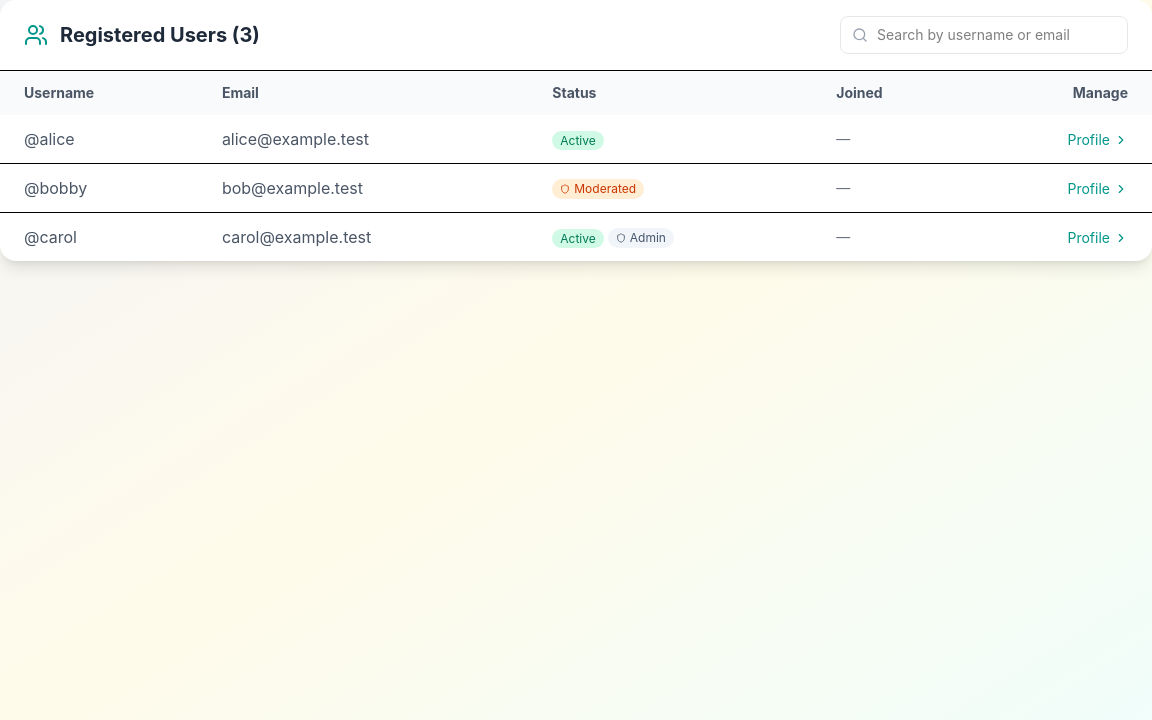
Scenario: AdminUsers registered directory › shows a helpful message when no users match the search
Type "zzznomatch" into the search field named "search users" at (984,35), box 840,16 -> 1128,54
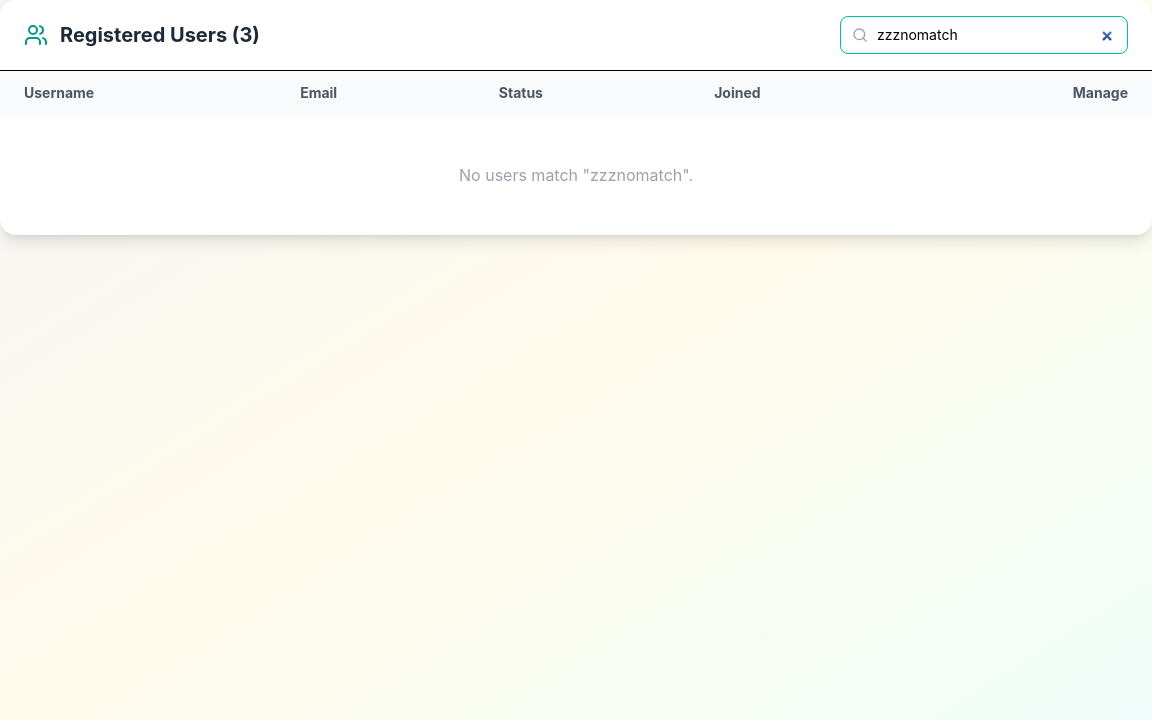
Check: the text "No users match \"zzznomatch\"." is shown, box 459,165 -> 693,185
